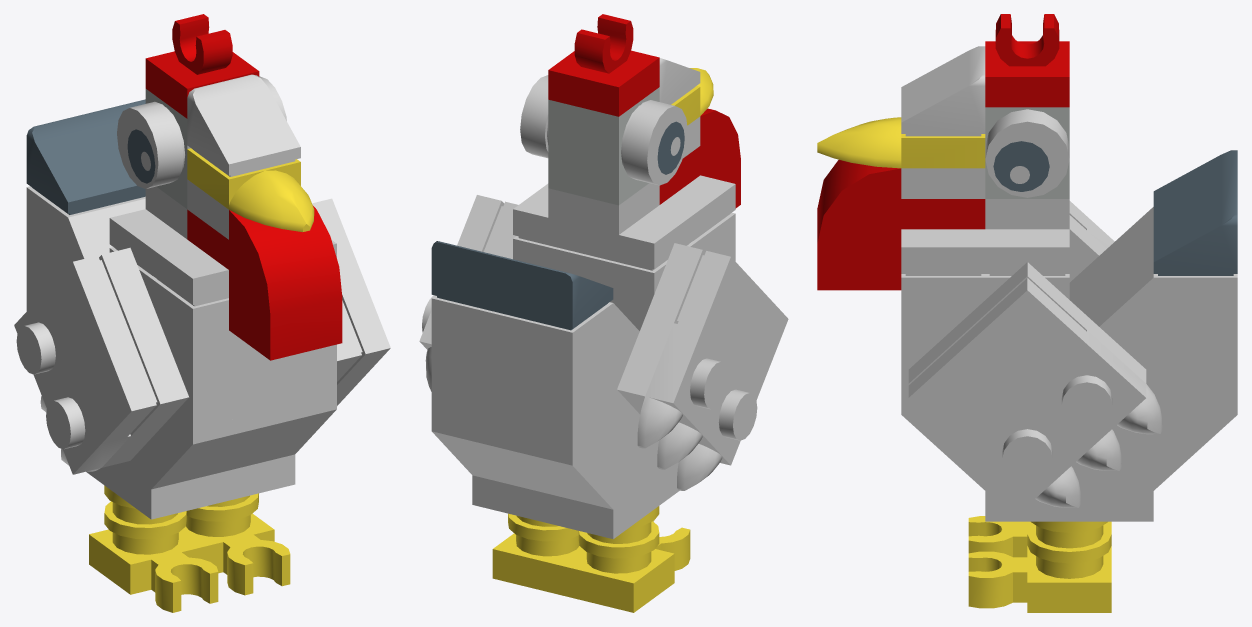
Rendered from Chicken_Final.fbx.
3 views of the same model, side by side, from view 1: azimuth 30°, elevation 25°; view 2: azimuth 150°, elevation 25°; view 3: azimuth 270°, elevation 25° (orthographic). The views are drawn at different scales.
Visible parts, largest first — view 1: Chicken; view 2: Chicken; view 3: Chicken.
Part boxes in pixels (x1,y1,x2,y2): Chicken: (14,14,390,612); Chicken: (419,14,788,612); Chicken: (817,14,1237,612).
Bounding box in the file's own units: 800 × 1460 × 1000.
